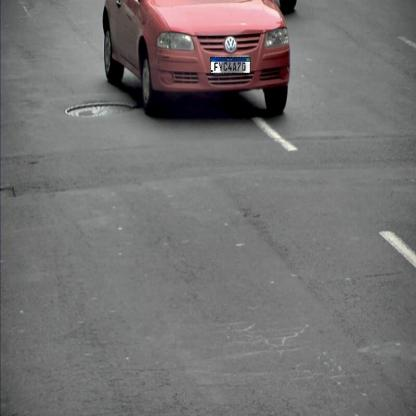PlacaM: (210, 57, 251, 73)
